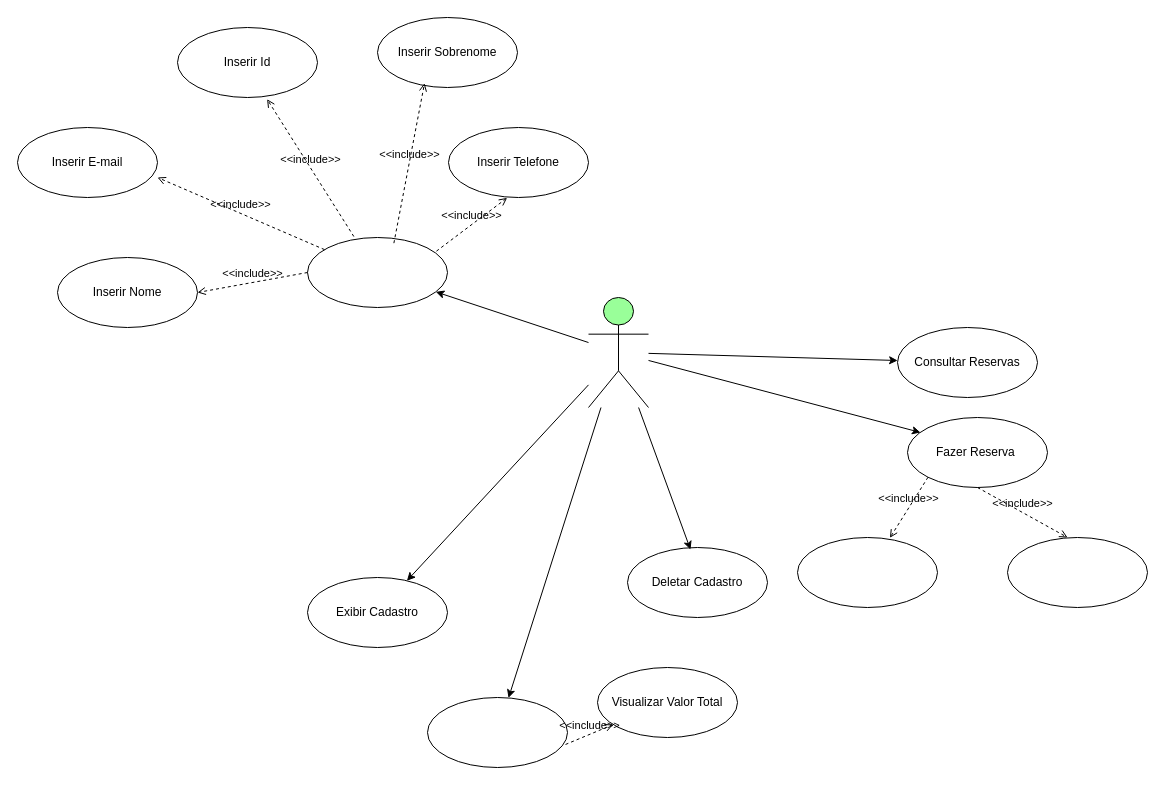
This 1165x785 diagram has some shape labels left out. Here are the shapes that lost their labels. From the top down, the centre of each, then its label:
(x=377, y=272): Cadastrar Cliente
(x=618, y=352): Cliente
(x=867, y=572): Inserir Dados da Reserva
(x=1077, y=572): Selecionar Pacote
(x=497, y=732): Visualizar Detalhes da Reserva
